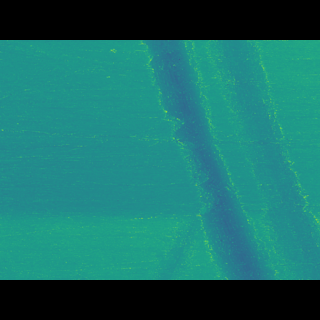Loch: (138, 70, 320, 251)
